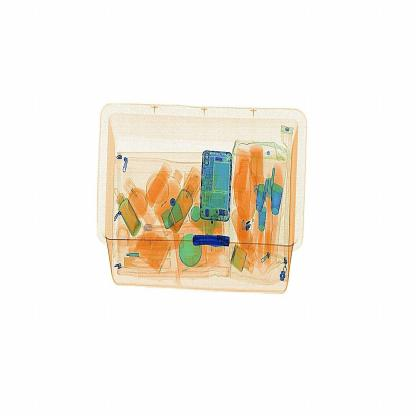knife: (189, 227, 236, 250)
